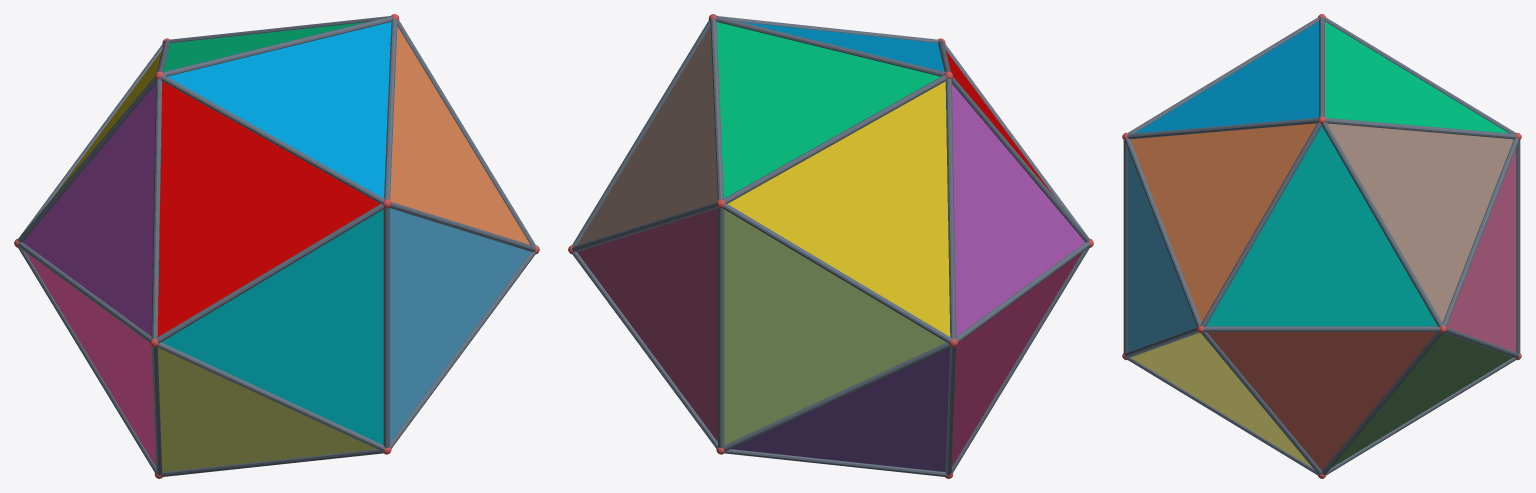
File: haimuoimat.glb
3 renders of one model, left to right at view 1: azimuth 30°, elevation 25°; view 2: azimuth 150°, elevation 25°; view 3: azimuth 270°, elevation 25°, orthographic. The views are drawn at different scales.
Visible parts, largest first — view 1: world; view 2: world; view 3: world.
Boxes of the visible parts, left/top/right/bottom form: world: left=14, top=14, right=539, bottom=478; world: left=568, top=14, right=1093, bottom=478; world: left=1122, top=14, right=1521, bottom=478.
Bounding box in the file's own units: 0.2921 × 0.2921 × 0.2921.
